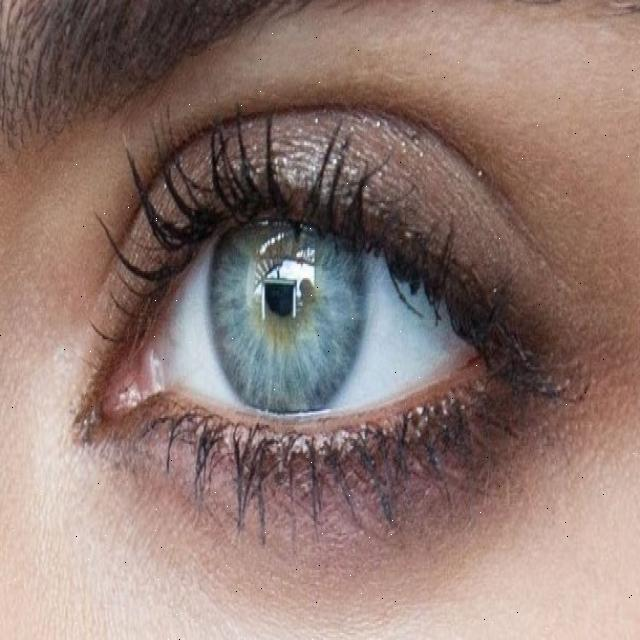Normal: (207, 159, 368, 420)
